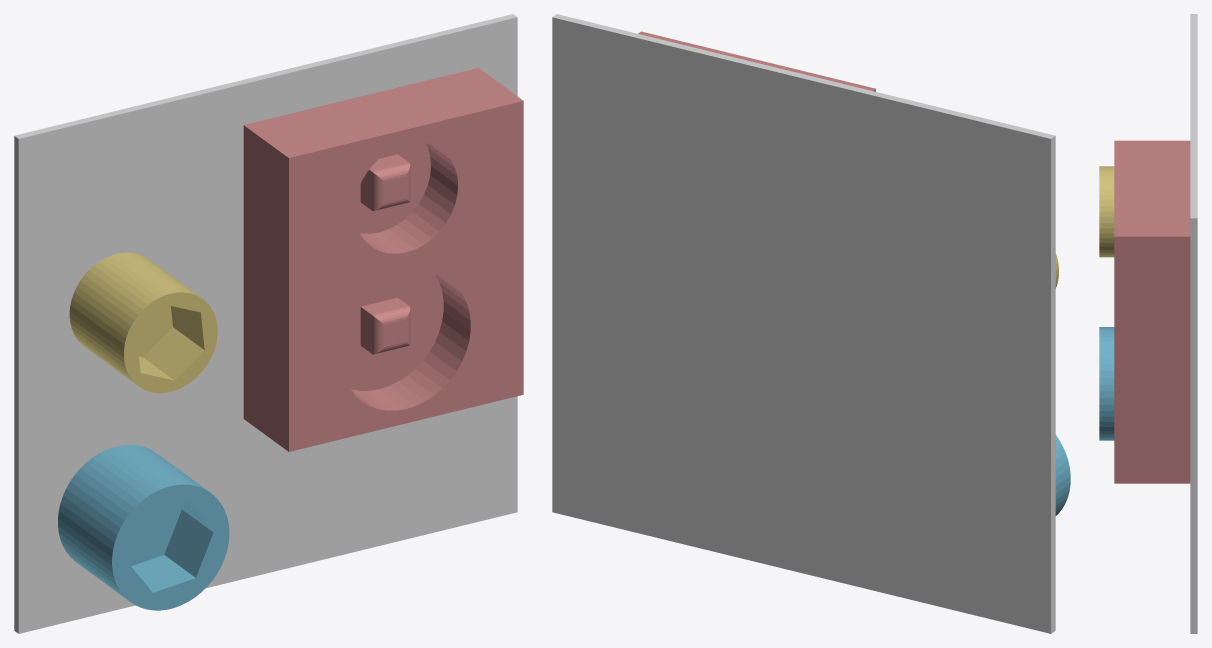
Rendered from pickup_layout.glb.
The picture shows the model from 3 angles, left to right: view 1: azimuth 30°, elevation 25°; view 2: azimuth 150°, elevation 25°; view 3: azimuth 270°, elevation 25°; orthographic projection. The views are drawn at different scales.
Visible parts, largest first — view 1: world, 0.obj, 2.obj, 1.obj; view 2: world, 2.obj, 0.obj; view 3: 0.obj, world, 2.obj, 1.obj.
Part boxes in pixels (<box>): world: <box>14,14,517,633</box>; 0.obj: <box>243,68,523,451</box>; 2.obj: <box>58,445,229,610</box>; 1.obj: <box>69,252,217,393</box>; world: <box>552,14,1055,633</box>; 2.obj: <box>1055,435,1070,515</box>; 0.obj: <box>638,31,875,91</box>; 0.obj: <box>1114,140,1190,483</box>; world: <box>1190,14,1197,633</box>; 2.obj: <box>1099,327,1114,440</box>; 1.obj: <box>1099,166,1114,257</box>.
Bounding box in the file's own units: 12.75 × 12.08 × 2.6.
